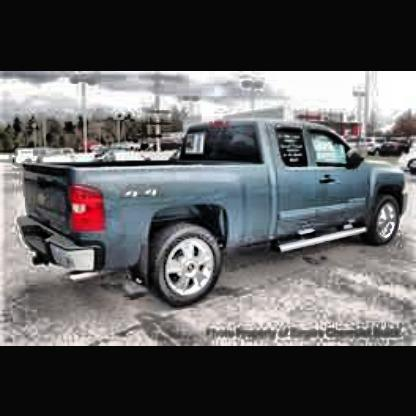Chevrolet Silverado 1500 Extended Cab 2012: (18, 113, 408, 311)
